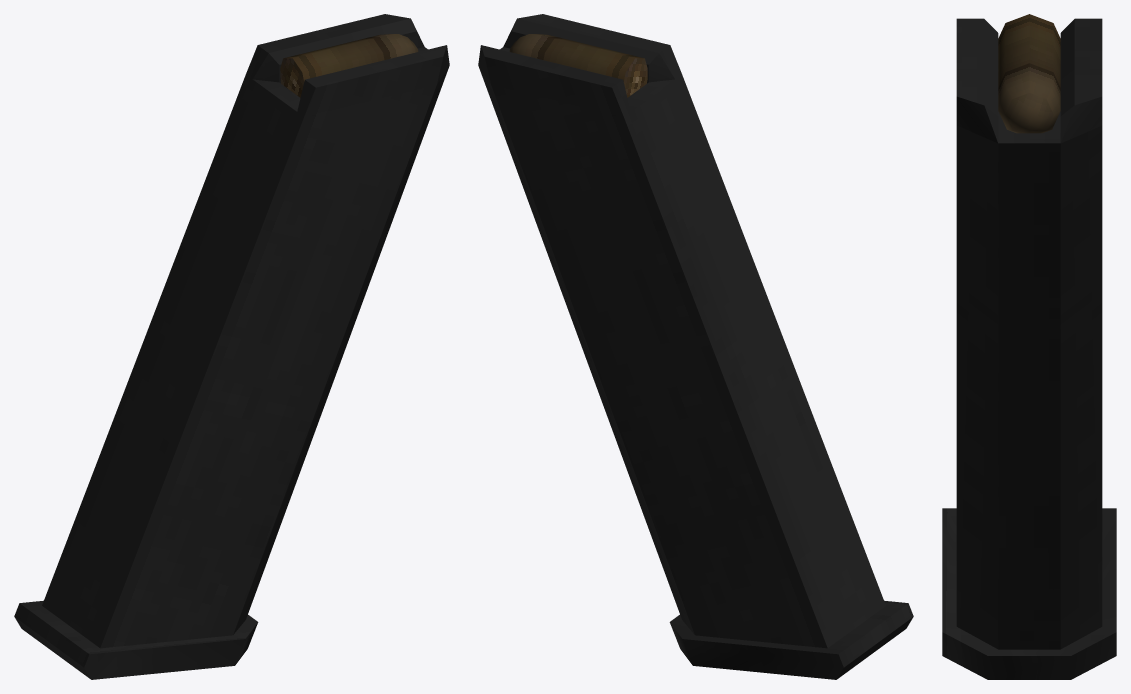
File: pistol_mp_1_mag_loaded.glb
3 views of the same model, side by side, from view 1: azimuth 30°, elevation 25°; view 2: azimuth 150°, elevation 25°; view 3: azimuth 270°, elevation 25° (orthographic). The views are drawn at different scales.
Parts seen in each view (by area): view 1: pistol_mp_1_mag_loaded; view 2: pistol_mp_1_mag_loaded; view 3: pistol_mp_1_mag_loaded.
Boxes of the visible parts, x1,y1,x2,y2 form: pistol_mp_1_mag_loaded: [14, 14, 449, 679]; pistol_mp_1_mag_loaded: [478, 14, 913, 679]; pistol_mp_1_mag_loaded: [942, 14, 1116, 679].
Bounding box in the file's own units: 0.1153 × 0.16 × 0.036.
Materials: 2 (2 with a texture image).
